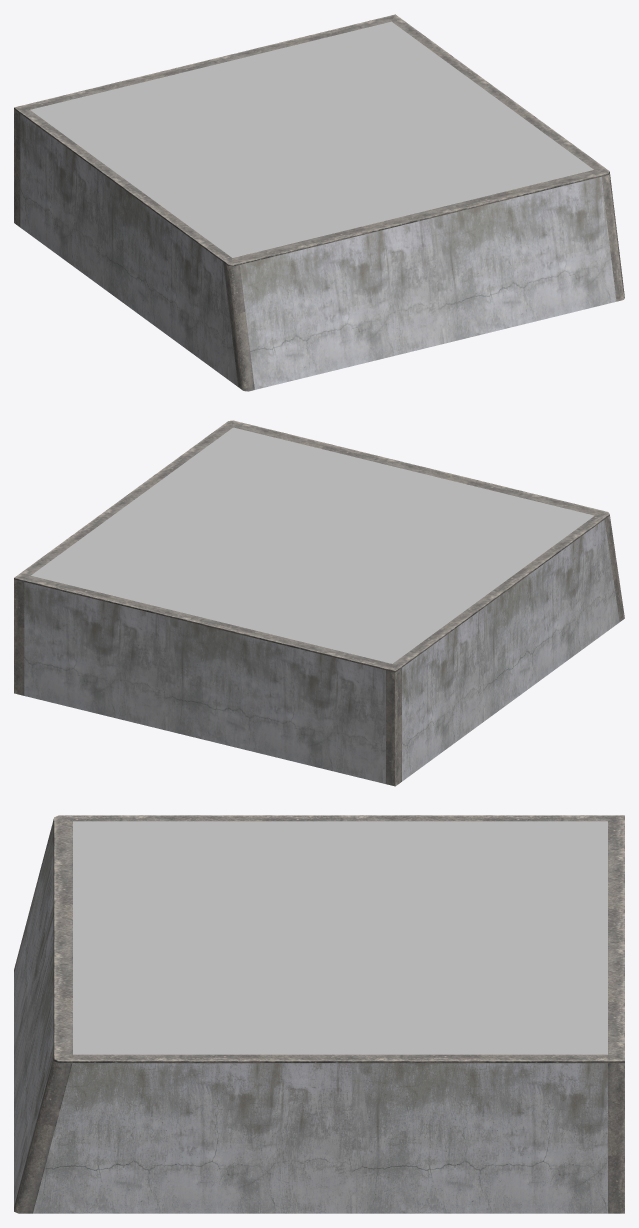
The model's file is JpHouseJ_StoneWall_05b.fbx.
3 views of the same model, one above another, from view 1: azimuth 30°, elevation 25°; view 2: azimuth 150°, elevation 25°; view 3: azimuth 270°, elevation 25° (orthographic). The views are drawn at different scales.
Visible parts, largest first — view 1: JpHouseJ_StoneWall_05b; view 2: JpHouseJ_StoneWall_05b; view 3: JpHouseJ_StoneWall_05b.
Part boxes in pixels (<box>): JpHouseJ_StoneWall_05b: <box>14,14,624,391</box>; JpHouseJ_StoneWall_05b: <box>14,420,624,786</box>; JpHouseJ_StoneWall_05b: <box>14,815,624,1213</box>.
Size of the model in its own units: 13.31 by 3.85 by 13.98.
